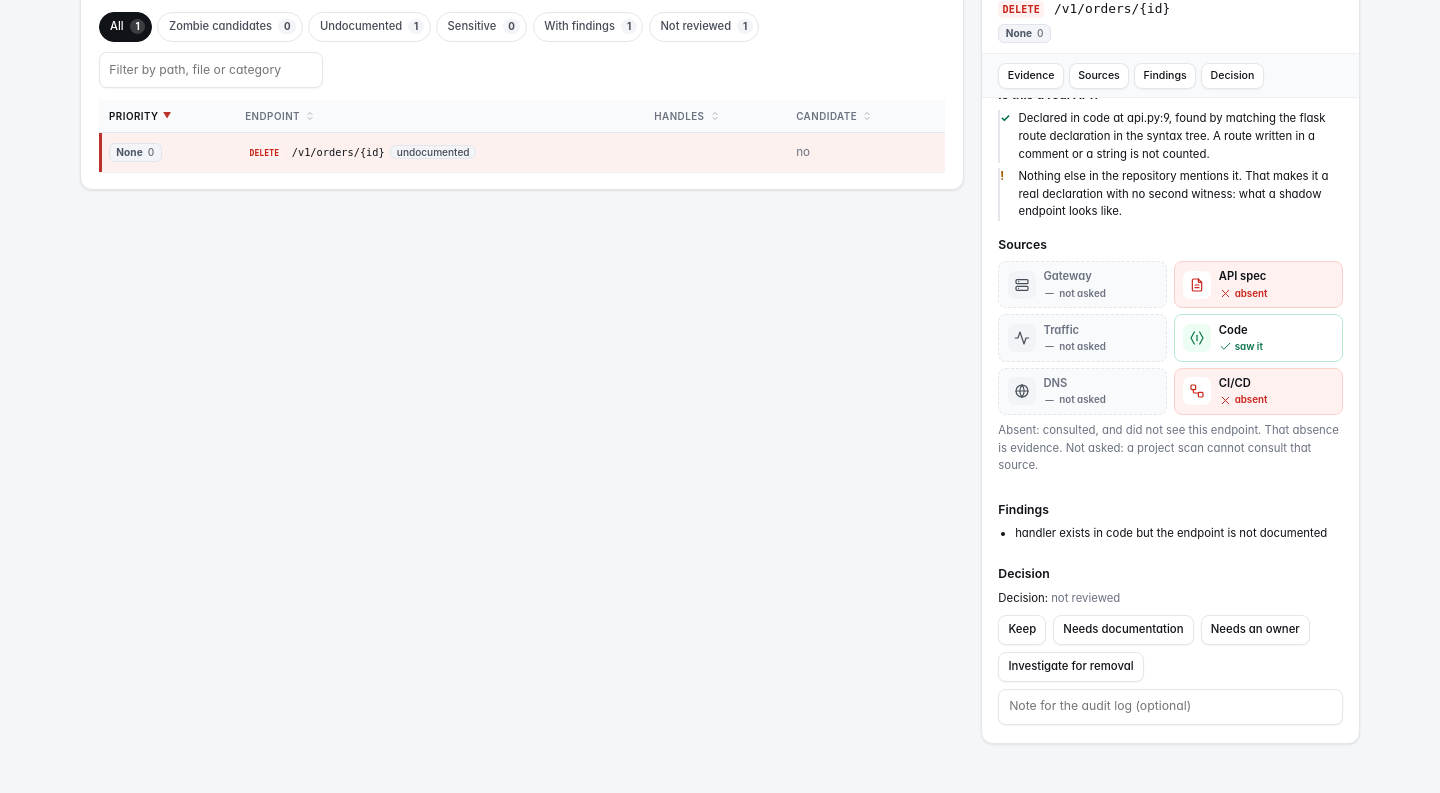
Test: Scan report › records a review decision, without sending a reviewer name
The width and height of the screenshot is (1440, 793).
(page scrolled)
Click the button with aria-label "Investigate for removal: DELETE /v1/orders/{id}" at coordinates (1071, 666), box [998,652,1144,682]
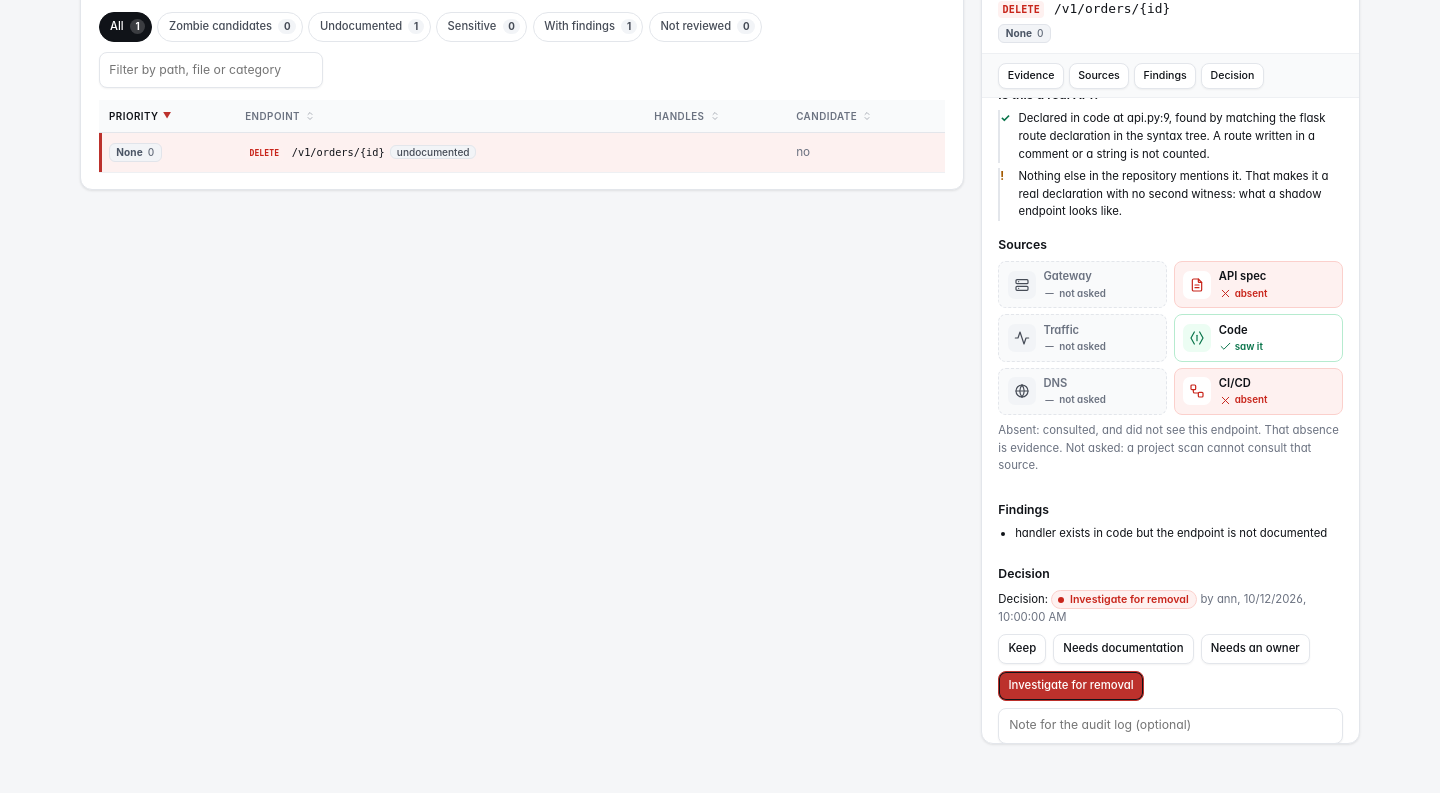
Result: the text "Investigate for removal" is shown at [1051,590,1197,609]
